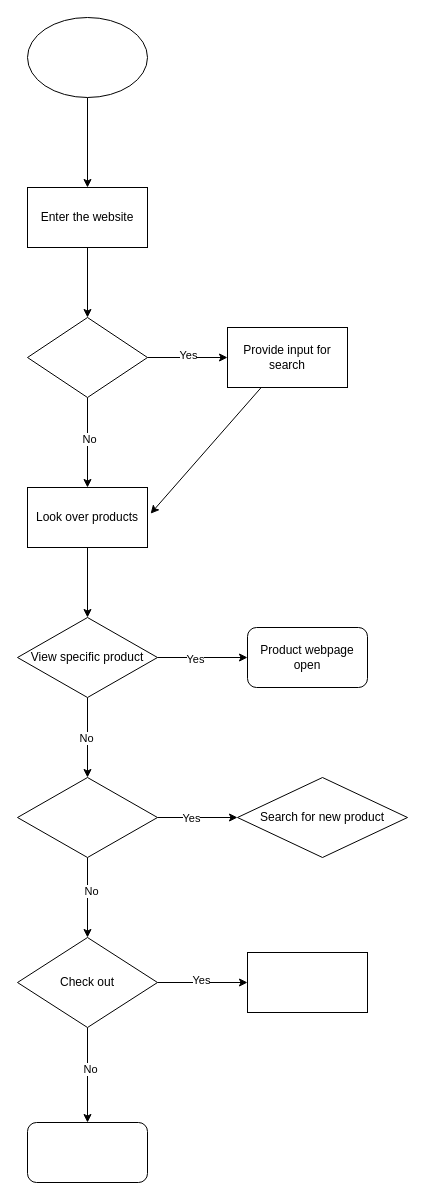
This 425x1200 diagram has some shape labels left out. Here are the shapes that lost their labels. From the top down, the centre of each, then its label:
the point at 87,57: start
the point at 87,357: Search for product
the point at 87,817: continue shopping
the point at 307,982: View Cart Screen
